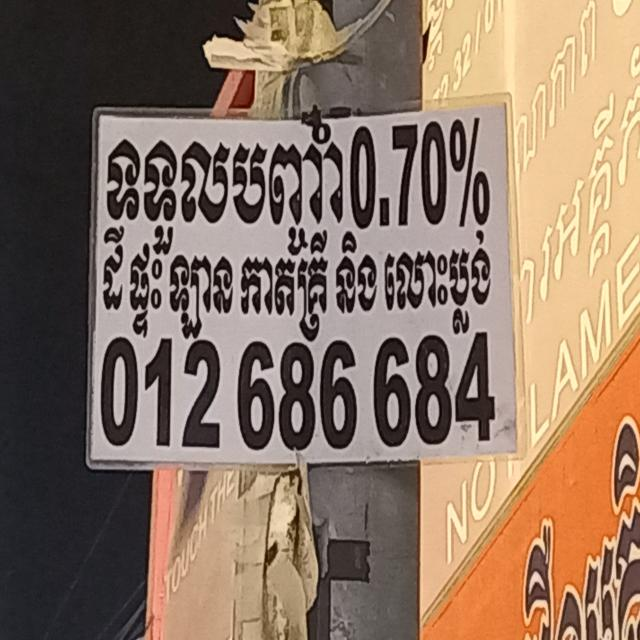200: (349, 109, 452, 229)
270: (96, 316, 501, 460)
5: (97, 224, 492, 343)
Yolov11_80vkh: (100, 118, 344, 257)
